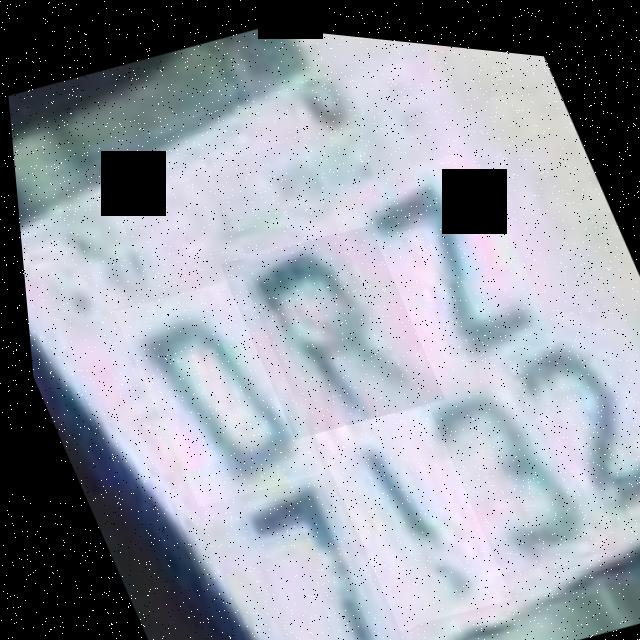1: (304, 387, 506, 632)
2: (455, 272, 640, 533)
3: (371, 319, 615, 590)
7: (194, 431, 419, 640)
O: (105, 262, 322, 514)
R: (212, 205, 443, 447)
Z: (315, 126, 555, 382)
